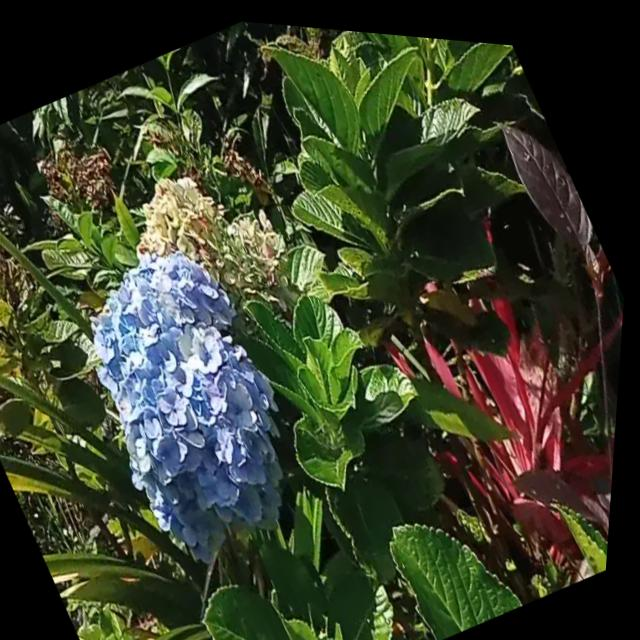Flower: (34, 215, 347, 594)
